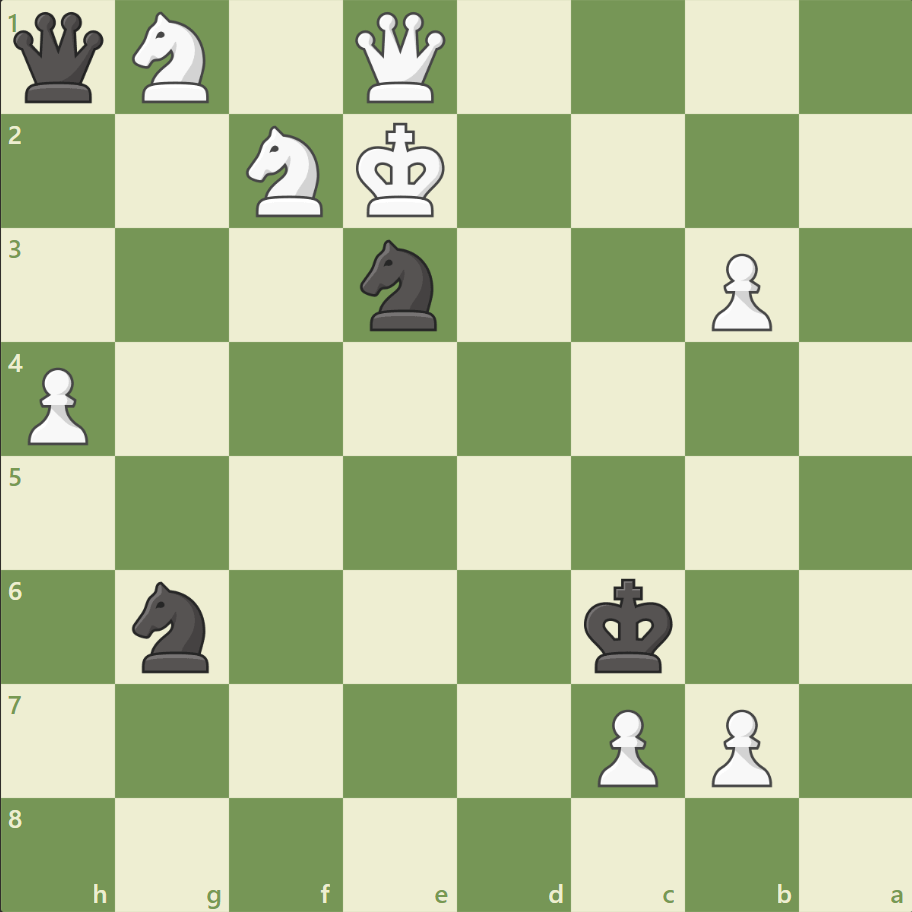K: (351, 117, 451, 225)
N: (124, 7, 222, 110), (238, 121, 335, 223)
P: (701, 700, 776, 791), (20, 359, 95, 450), (701, 246, 776, 337), (588, 700, 662, 791)
Q: (351, 9, 450, 108)
k: (579, 571, 679, 679)
n: (351, 234, 449, 337), (124, 575, 222, 677)
q: (10, 9, 109, 108)
